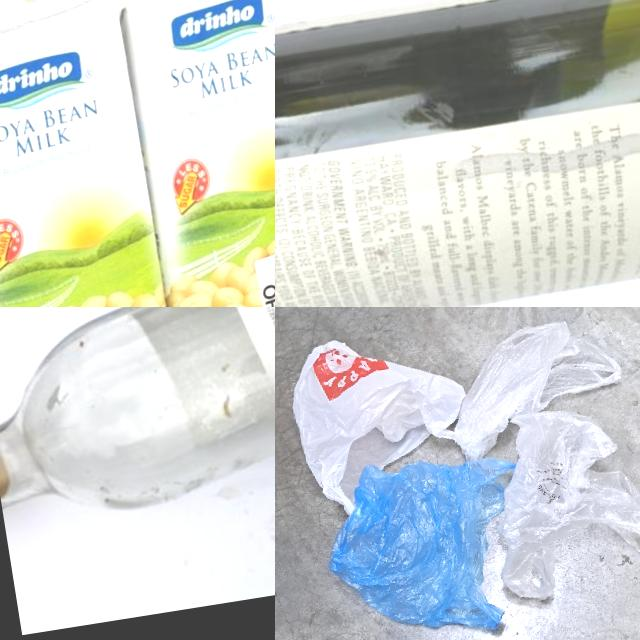caixinha: (0, 0, 275, 307)
garrafa de vidro: (275, 0, 640, 307), (0, 307, 275, 522)
sacola plástica: (315, 441, 542, 640), (282, 323, 482, 518), (475, 394, 640, 605), (440, 313, 632, 464)
